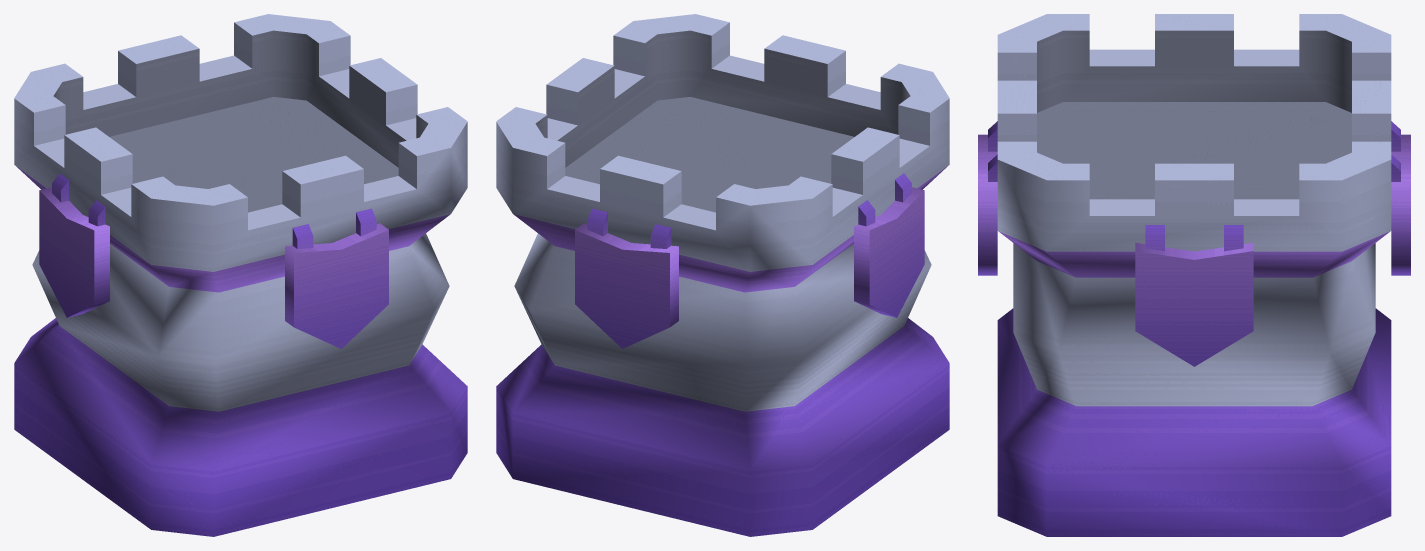
Rendered from tower-square-build-a.glb.
The picture shows the model from 3 angles, left to right: view 1: azimuth 30°, elevation 25°; view 2: azimuth 150°, elevation 25°; view 3: azimuth 270°, elevation 25°; orthographic projection. The views are drawn at different scales.
Visible parts, largest first — view 1: tower-square-build-a; view 2: tower-square-build-a; view 3: tower-square-build-a.
Boxes of the visible parts, box(x1,y1,x2,y2) form: tower-square-build-a: box(14, 14, 467, 536); tower-square-build-a: box(496, 14, 949, 536); tower-square-build-a: box(978, 14, 1410, 536).
Bounding box in the file's own units: 1.1 × 1 × 1.1.
Materials: 1 (1 with a texture image).
